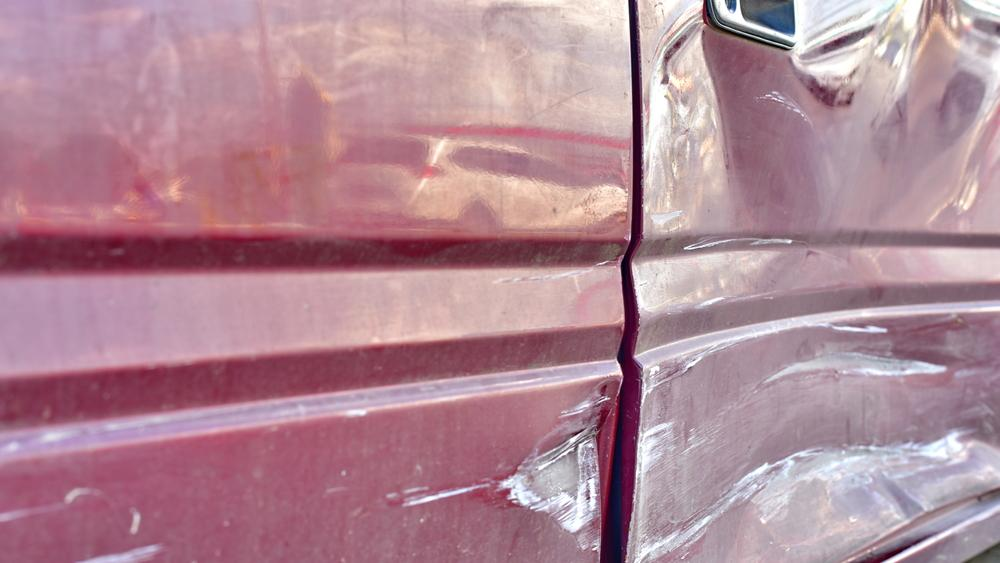dent: (649, 2, 1000, 251), (646, 319, 1000, 547), (499, 376, 624, 551)
